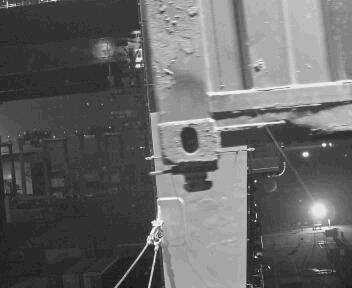twist_lock_1: (162, 155, 223, 200)
